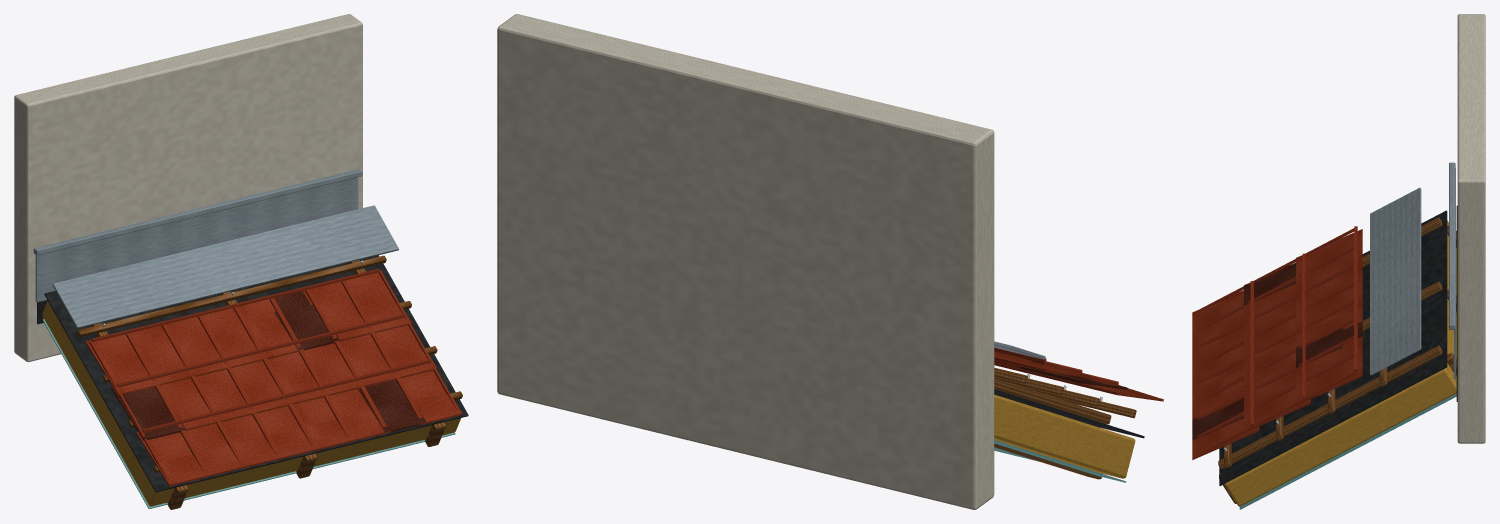
Rendered from modell.glb.
The picture shows the model from 3 angles, left to right: view 1: azimuth 30°, elevation 25°; view 2: azimuth 150°, elevation 25°; view 3: azimuth 270°, elevation 25°; orthographic projection. The views are drawn at different scales.
Parts seen in each view (by area): view 1: s07-wand_, s07-deckziegel_deckung, s07-anschlussblech_deckung, s07-zusatzebene_zusatzebene, s07-daemmung_daemmung, s07-deckziegel_deckung.001, s07-lattung_lattung, s07-anschlussblech_, s07-luftdichtheit_luftdichtheit, s07-sparren_tragwerk; view 2: s07-wand_, s07-daemmung_daemmung, s07-lattung_lattung, s07-deckziegel_deckung, s07-zusatzebene_zusatzebene; view 3: s07-deckziegel_deckung, s07-wand_, s07-zusatzebene_zusatzebene, s07-anschlussblech_deckung, s07-daemmung_daemmung, s07-lattung_lattung, s07-deckziegel_deckung.001, s07-anschlussblech_, s07-luftdichtheit_luftdichtheit, s07-zusatzebene_zusatzebene.001.
Part boxes in pixels (<box>): s07-wand_: <box>14,14,362,362</box>; s07-deckziegel_deckung: <box>85,268,462,486</box>; s07-anschlussblech_deckung: <box>35,177,398,328</box>; s07-zusatzebene_zusatzebene: <box>44,255,468,492</box>; s07-daemmung_daemmung: <box>42,301,460,506</box>; s07-deckziegel_deckung.001: <box>111,291,426,440</box>; s07-lattung_lattung: <box>77,255,462,473</box>; s07-anschlussblech_: <box>33,169,362,255</box>; s07-luftdichtheit_luftdichtheit: <box>42,319,455,508</box>; s07-sparren_tragwerk: <box>167,422,445,509</box>; s07-wand_: <box>497,14,994,509</box>; s07-daemmung_daemmung: <box>994,394,1135,478</box>; s07-lattung_lattung: <box>994,367,1136,424</box>; s07-deckziegel_deckung: <box>994,347,1163,401</box>; s07-zusatzebene_zusatzebene: <box>994,389,1144,438</box>; s07-deckziegel_deckung: <box>1192,226,1362,459</box>; s07-wand_: <box>1457,14,1485,443</box>; s07-zusatzebene_zusatzebene: <box>1219,210,1447,485</box>; s07-anschlussblech_deckung: <box>1370,168,1455,379</box>; s07-daemmung_daemmung: <box>1225,220,1456,506</box>; s07-lattung_lattung: <box>1218,217,1442,469</box>; s07-deckziegel_deckung.001: <box>1192,263,1362,440</box>; s07-anschlussblech_: <box>1449,162,1455,329</box>; s07-luftdichtheit_luftdichtheit: <box>1239,393,1456,509</box>; s07-zusatzebene_zusatzebene.001: <box>1456,205,1457,401</box>.
Size of the model in its own units: 2.25 by 2.13 by 1.67.
Materials: 9 (7 with a texture image).
